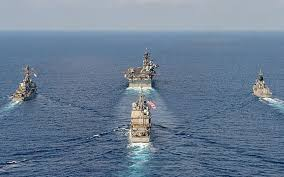tau_muctieu: (124, 48, 158, 93), (129, 94, 155, 142), (17, 64, 37, 102), (248, 69, 269, 102)
